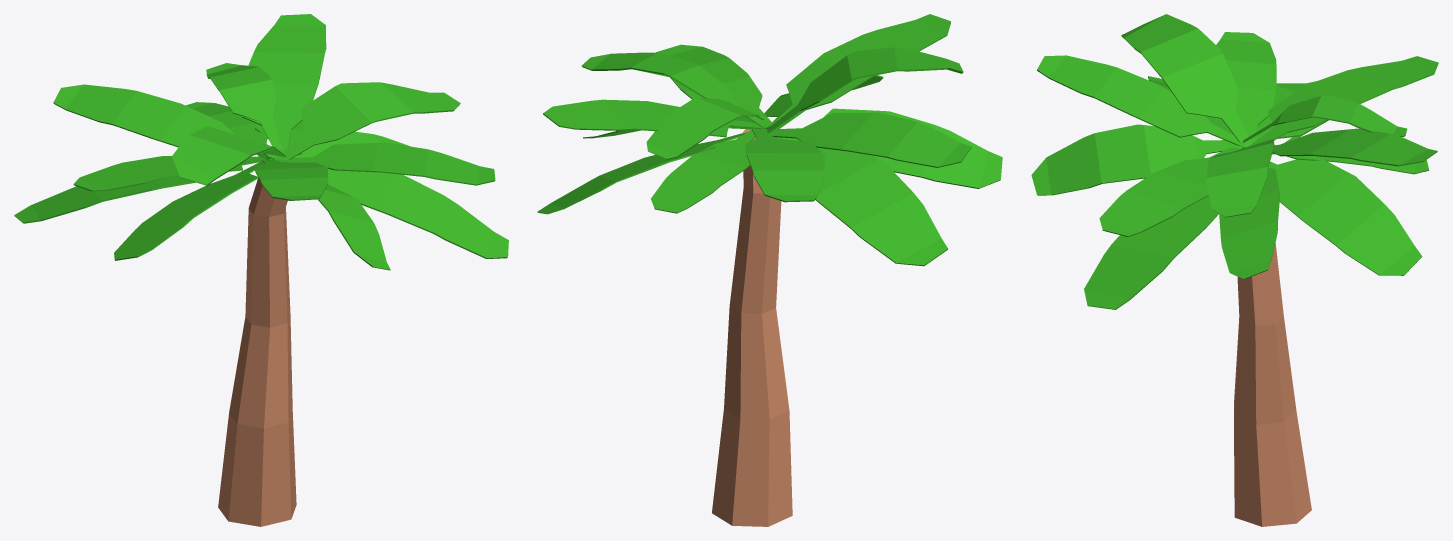
Rendered from PalmTree1.fbx.
The picture shows the model from 3 angles, left to right: view 1: azimuth 30°, elevation 25°; view 2: azimuth 150°, elevation 25°; view 3: azimuth 270°, elevation 25°; orthographic projection. The views are drawn at different scales.
Visible parts, largest first — view 1: Palm tree, leave.004, leave.012, leave.010, leave.001, leave.011, leave.007, leave.009, leave.013, leave.008, leave.002, leave.003 (+3 smaller); view 2: Palm tree, leave.002, leave.014, leave.001, leave.003, leave, leave.009, leave.010, leave.013, leave.007, leave.012, leave.011 (+2 smaller); view 3: Palm tree, leave.005, leave.008, leave.009, leave.004, leave.003, leave.011, leave.001, leave.014, leave.006, leave.010, leave.012 (+3 smaller).
Boxes of the visible parts, <box> form: Palm tree: <box>218,178,296,526</box>; leave.004: <box>328,168,508,258</box>; leave.012: <box>275,82,460,160</box>; leave.010: <box>242,14,326,158</box>; leave.001: <box>53,84,274,158</box>; leave.011: <box>274,142,495,185</box>; leave.007: <box>114,161,264,260</box>; leave.009: <box>172,126,285,185</box>; leave.013: <box>206,63,281,149</box>; leave.008: <box>265,158,390,270</box>; leave.002: <box>14,160,261,223</box>; leave.003: <box>254,159,328,200</box>; Palm tree: <box>712,129,792,526</box>; leave.002: <box>774,137,947,266</box>; leave.014: <box>765,112,971,167</box>; leave.001: <box>745,128,824,202</box>; leave.003: <box>765,14,950,129</box>; leave: <box>651,128,763,213</box>; leave.009: <box>767,47,963,133</box>; leave.010: <box>543,99,764,137</box>; leave.013: <box>646,98,763,159</box>; leave.007: <box>780,108,1002,188</box>; leave.012: <box>581,52,765,128</box>; leave.011: <box>656,44,772,128</box>; Palm tree: <box>1234,242,1311,526</box>; leave.005: <box>1268,156,1422,275</box>; leave.008: <box>1031,124,1244,195</box>; leave.009: <box>1121,14,1252,146</box>; leave.004: <box>1084,196,1218,309</box>; leave.003: <box>1037,55,1245,147</box>; leave.011: <box>1099,147,1243,236</box>; leave.001: <box>1248,56,1438,146</box>; leave.014: <box>1216,32,1276,147</box>; leave.006: <box>1219,168,1280,279</box>; leave.010: <box>1272,128,1437,166</box>; leave.012: <box>1206,139,1274,217</box>.
Size of the model in its own units: 653 by 678 by 582.
